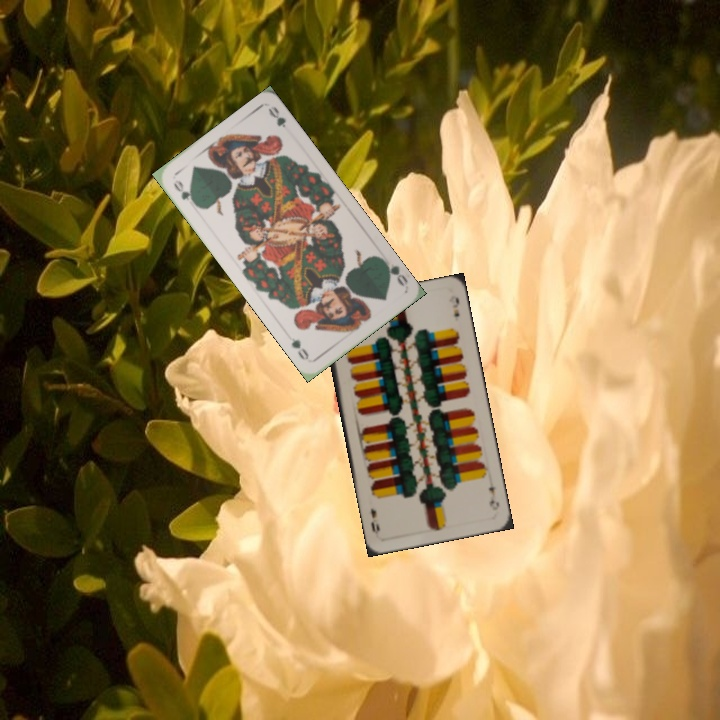E9: (484, 482, 502, 513)
GO: (379, 255, 411, 290), (169, 175, 199, 209)
